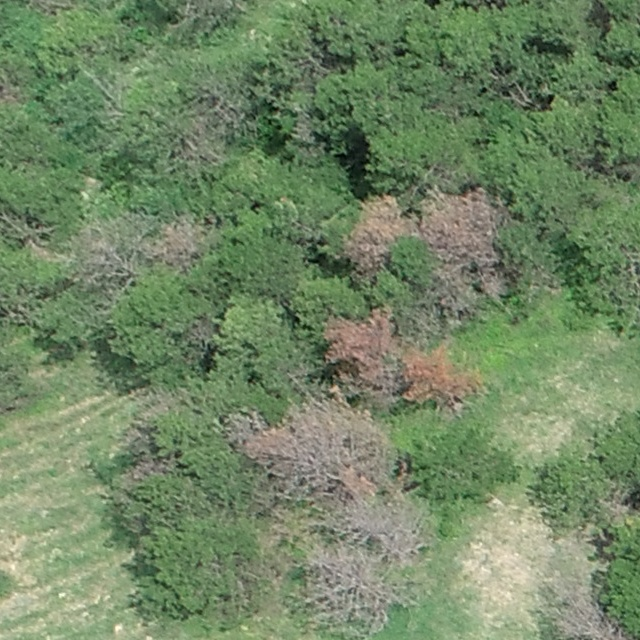unhealthy: (263, 404, 389, 502), (420, 183, 504, 281), (304, 544, 388, 628), (327, 307, 401, 399), (544, 575, 629, 640), (401, 342, 482, 410), (67, 219, 143, 287), (343, 196, 405, 272), (350, 504, 426, 563), (156, 215, 206, 268), (166, 126, 222, 166), (224, 401, 262, 458), (431, 265, 469, 314)
